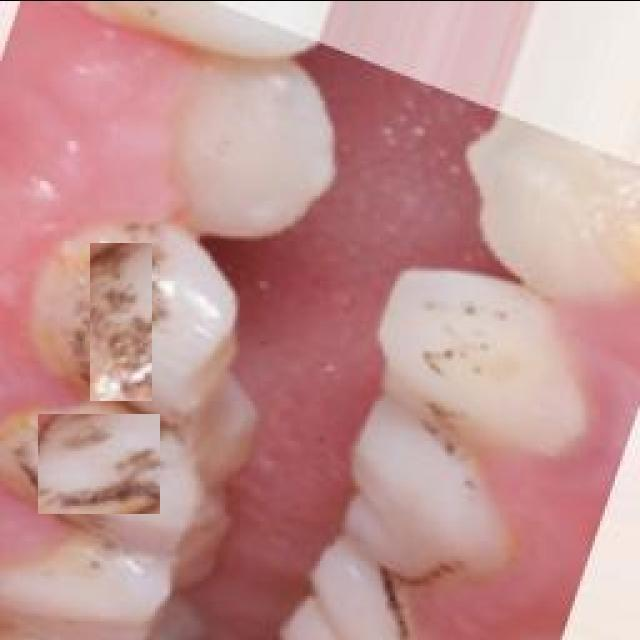decay: (38, 413, 160, 513), (90, 242, 152, 400), (385, 555, 457, 593), (430, 400, 465, 445), (427, 337, 465, 375)
